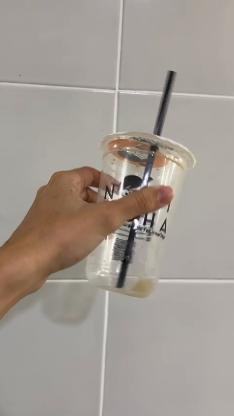Plastic Cup: (86, 127, 196, 298)
